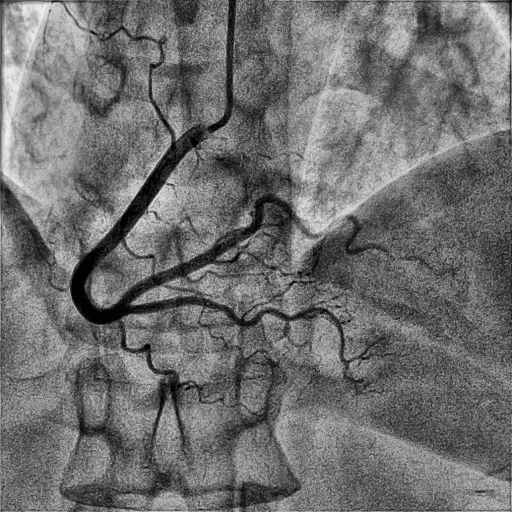pborca: (121, 192, 428, 304)
pda: (128, 295, 364, 364)
rca: (71, 122, 215, 325)
